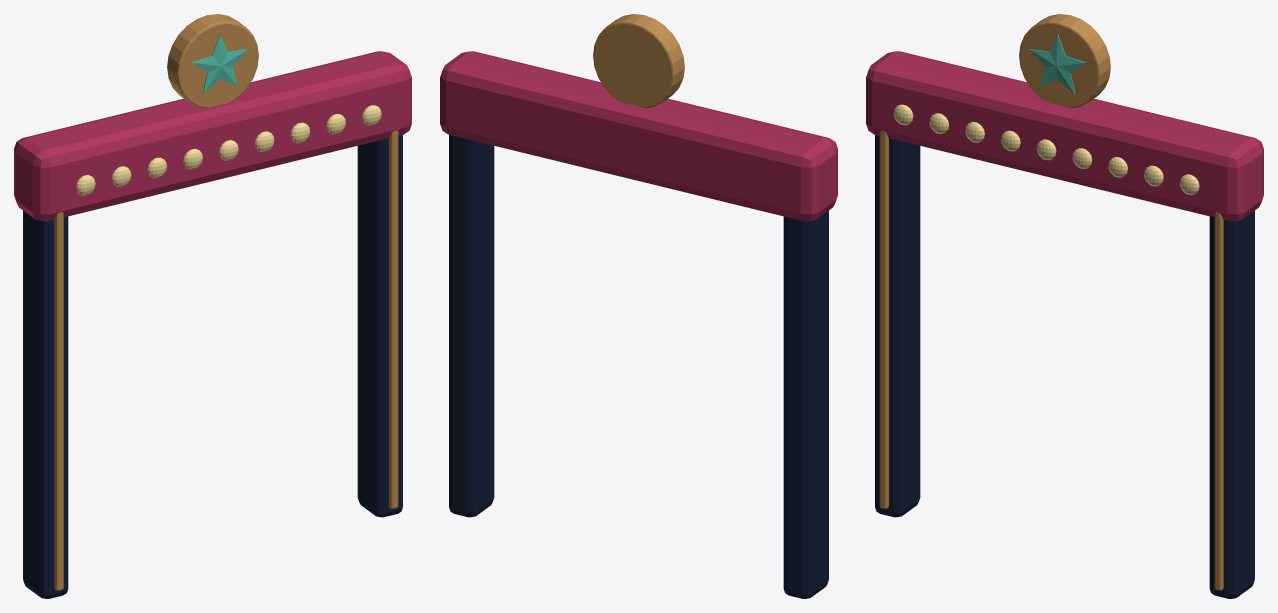
The model's file is Region_lobby.fbx.
The picture shows the model from 3 angles, left to right: view 1: azimuth 30°, elevation 25°; view 2: azimuth 150°, elevation 25°; view 3: azimuth 330°, elevation 25°; orthographic projection.
Visible parts, largest first — view 1: Region_lobby.Mesh; view 2: Region_lobby.Mesh; view 3: Region_lobby.Mesh.
Part boxes in pixels (x1,y1,x2,y2): Region_lobby.Mesh: [14, 14, 411, 598]; Region_lobby.Mesh: [440, 14, 837, 598]; Region_lobby.Mesh: [866, 14, 1263, 598].
Size of the model in its own units: 296 by 398 by 47.5.
